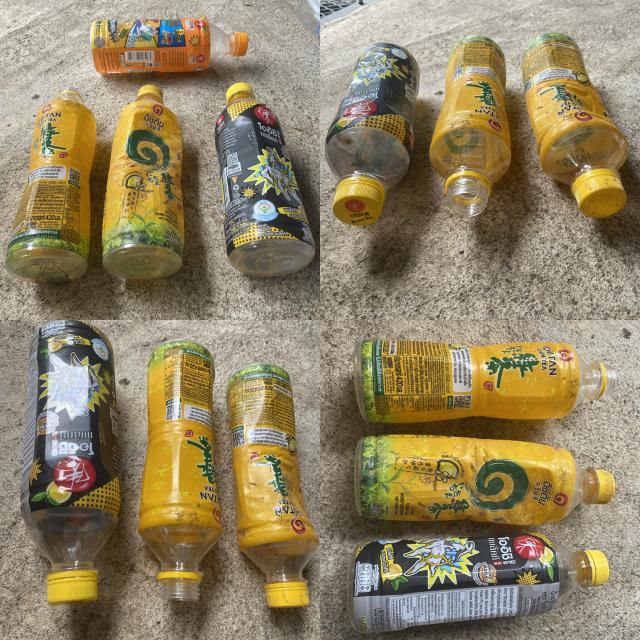plastik: (21, 320, 120, 603), (348, 532, 609, 634), (355, 435, 615, 525), (226, 365, 319, 608), (354, 339, 616, 422), (139, 340, 222, 601), (522, 32, 629, 218), (215, 82, 315, 276), (325, 42, 420, 224), (6, 89, 96, 281), (102, 85, 184, 279), (430, 35, 511, 216), (90, 15, 248, 74)
